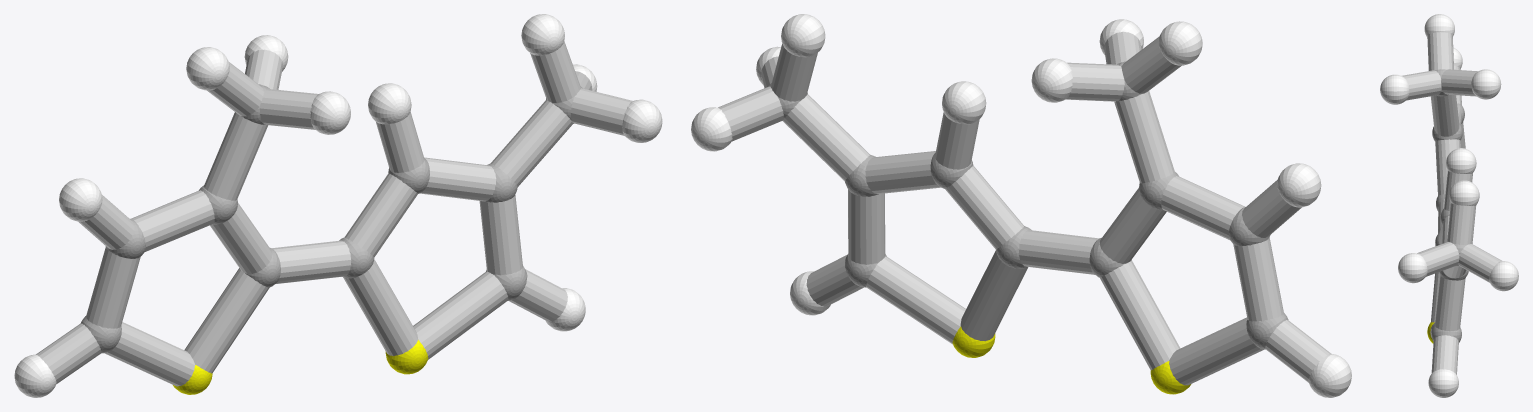
Rendered from color.glb.
3 renders of one model, left to right at view 1: azimuth 30°, elevation 25°; view 2: azimuth 150°, elevation 25°; view 3: azimuth 270°, elevation 25°, orthographic. The views are drawn at different scales.
Parts seen in each view (by area): view 1: grp7965, grp3621, grp1, grp7241; view 2: grp7965, grp3621, grp1, grp7241; view 3: grp7965, grp3621, grp1.
Part boxes in pixels (left/top/right/bottom): grp7965: left=36, top=41, right=632, bottom=386; grp3621: left=14, top=14, right=662, bottom=397; grp1: left=81, top=84, right=582, bottom=353; grp7241: left=173, top=340, right=428, bottom=394; grp7965: left=718, top=31, right=1331, bottom=385; grp3621: left=691, top=14, right=1351, bottom=397; grp1: left=768, top=61, right=1288, bottom=349; grp7241: left=952, top=326, right=1191, bottom=394; grp7965: left=1402, top=32, right=1501, bottom=374; grp3621: left=1380, top=14, right=1518, bottom=397; grp1: left=1431, top=69, right=1468, bottom=342.
Bounding box in the file's own units: 9.69 × 5.67 × 2.73.
